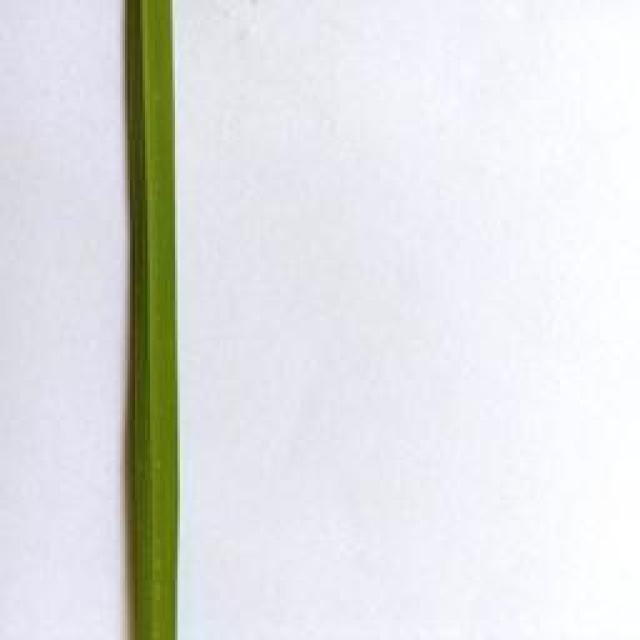Healthy-Plant: (114, 0, 191, 640)
